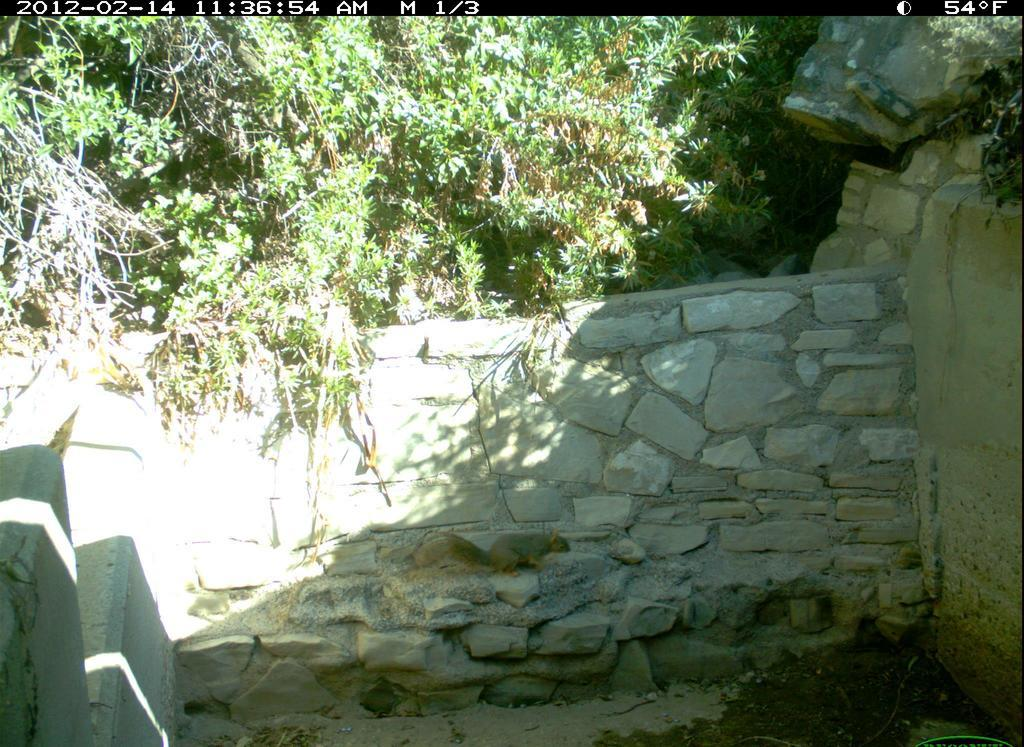squirrel: (418, 521, 579, 589)
